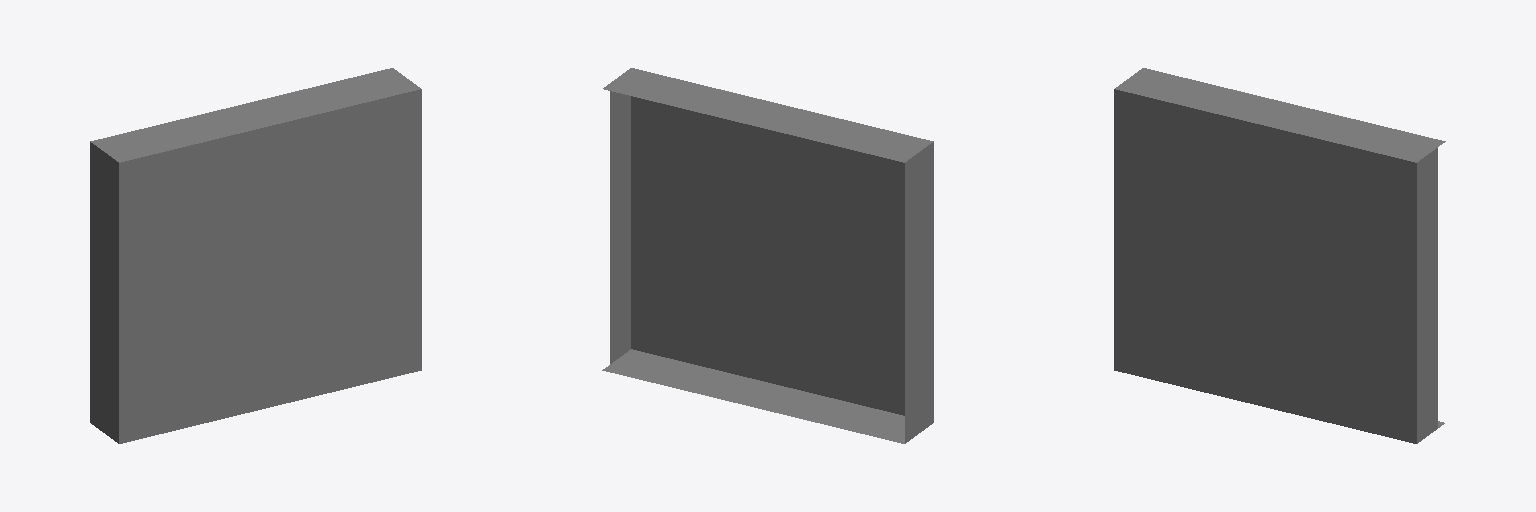
File: solo_12_base_26.obj
3 views of the same model, side by side, from view 1: azimuth 30°, elevation 25°; view 2: azimuth 150°, elevation 25°; view 3: azimuth 330°, elevation 25° (orthographic).
Size of the model in its own units: 0.018 by 0.016 by 0.003.